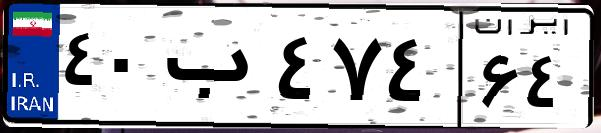0: (110, 28, 158, 98)
4: (270, 28, 330, 110), (385, 28, 445, 110), (57, 26, 110, 100), (525, 38, 570, 115)
6: (475, 38, 525, 113)
7: (330, 28, 385, 110)
ب: (158, 20, 270, 120)
